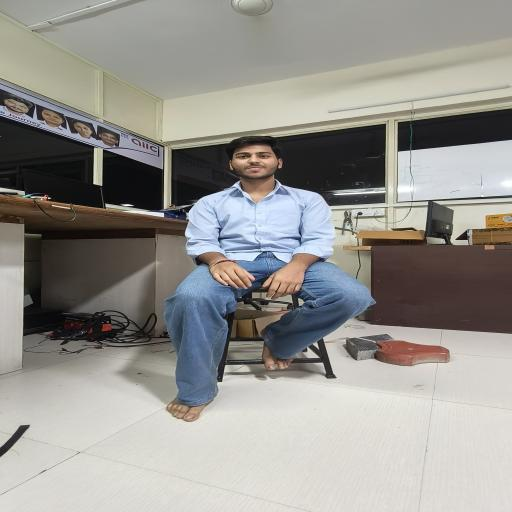survivor: (162, 135, 377, 423)
